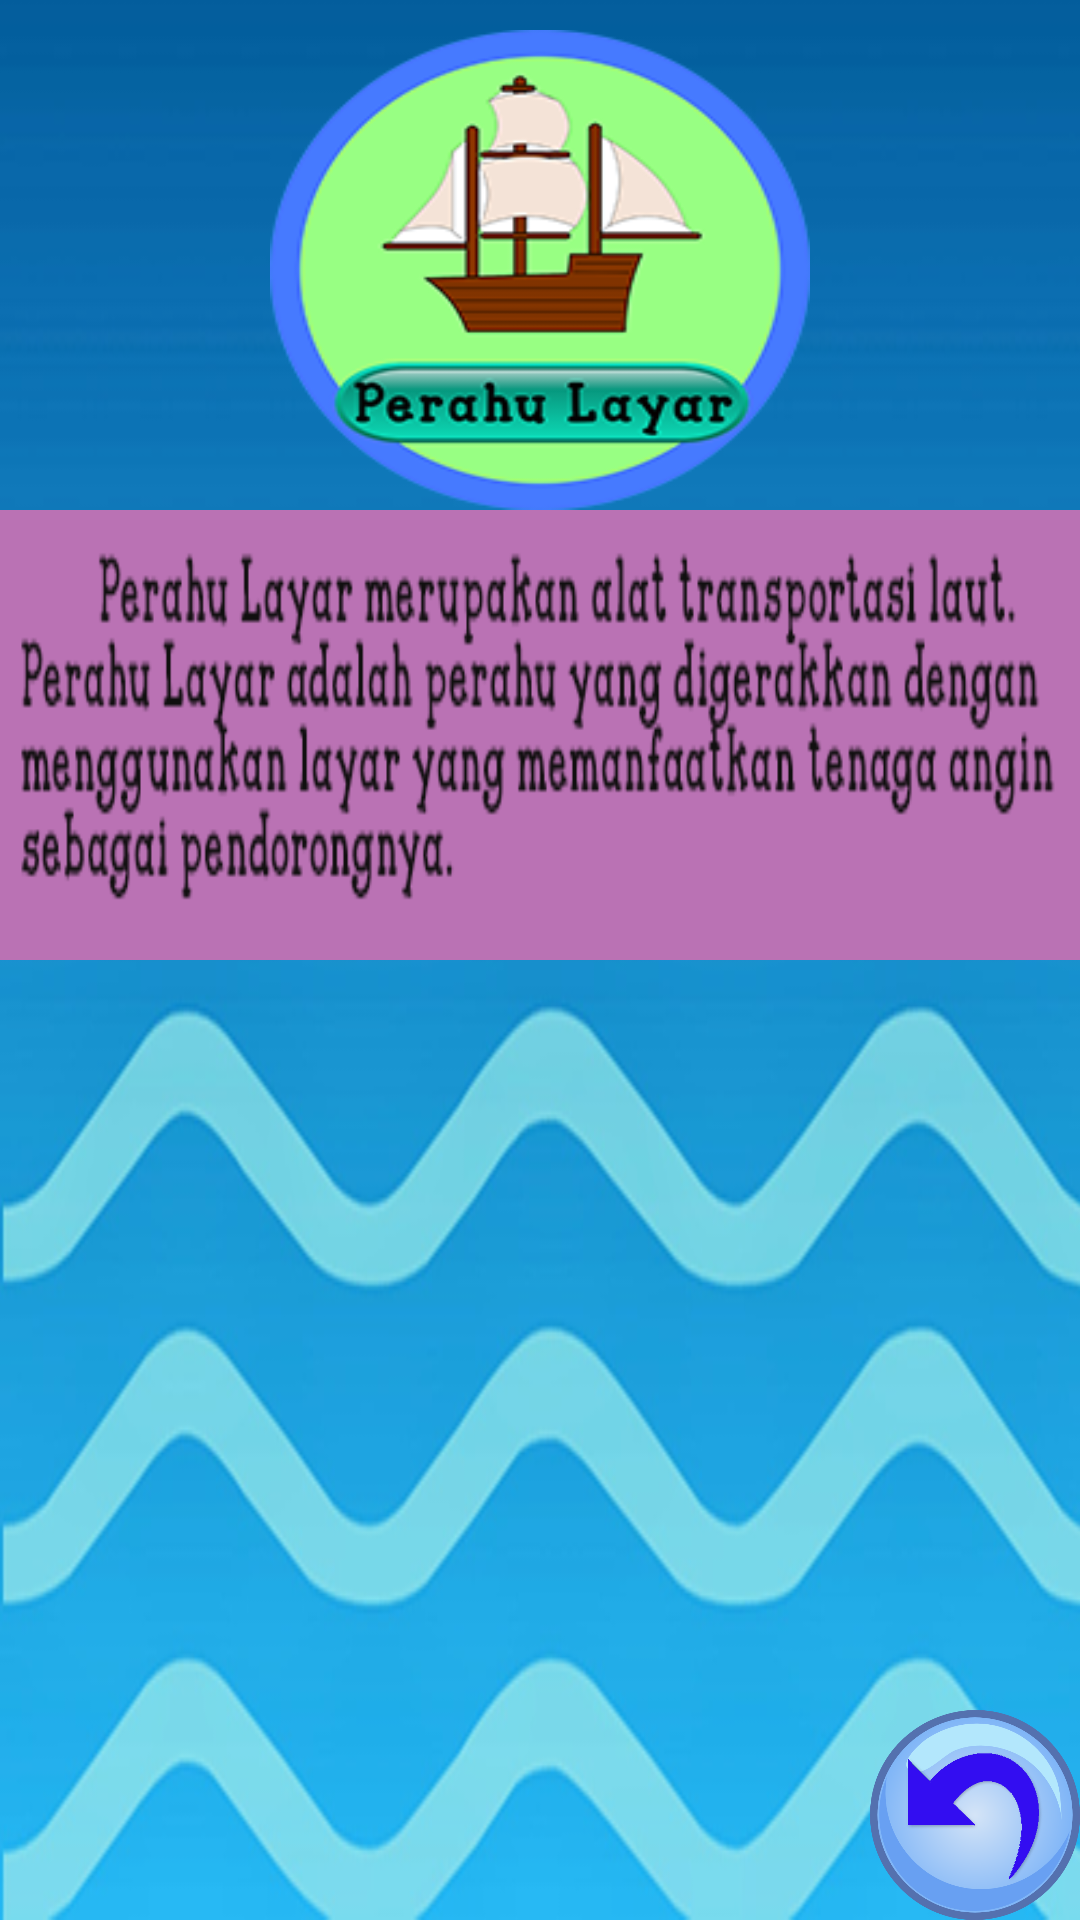

Point at icon controls on the screen. Image size 1080x1920, points as (x=x, y=y).
back: (x=975, y=1815)
